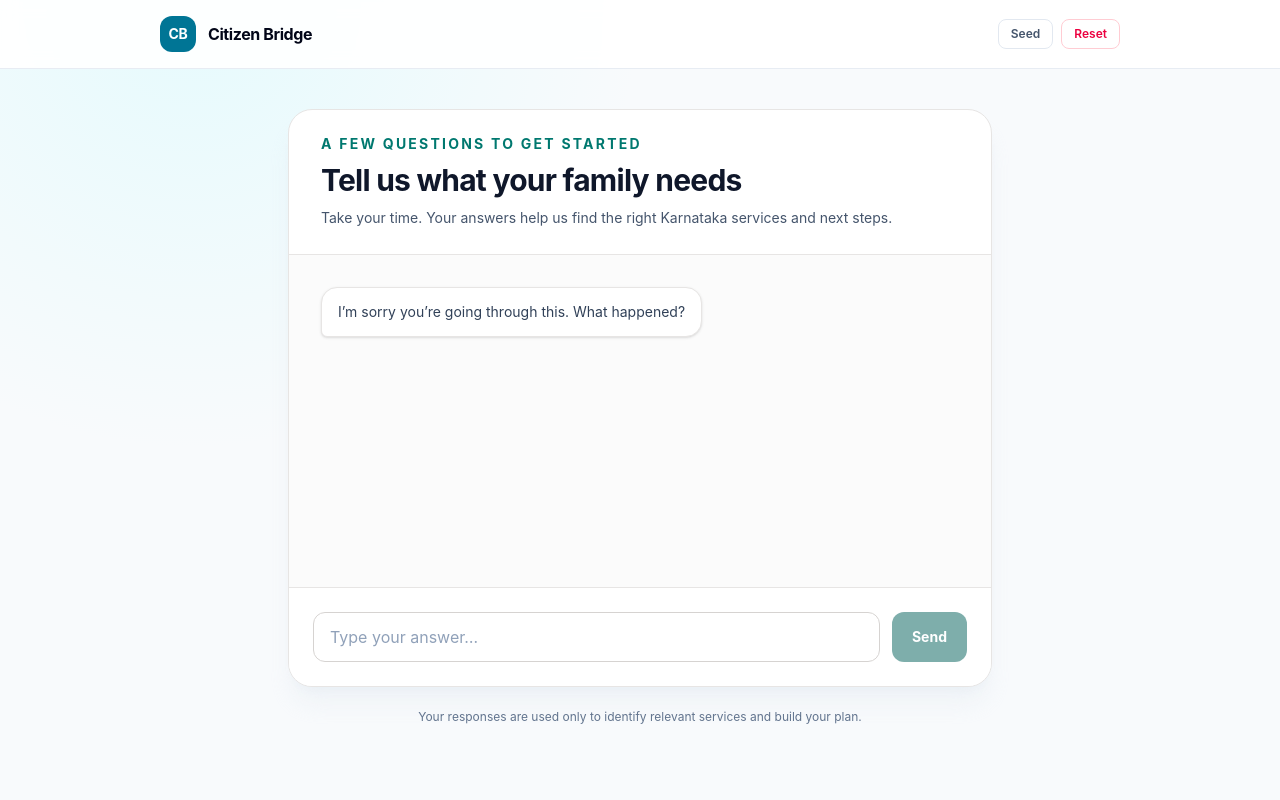
shows an inline error and preserves the answer when a message fails
expect the text "I’m sorry you’re going through this. What happened?" is shown: met, box [321,287,702,337]
Type "My father passed away" into the field named "Your message". click: (596, 637)
box: [313,612,880,662]
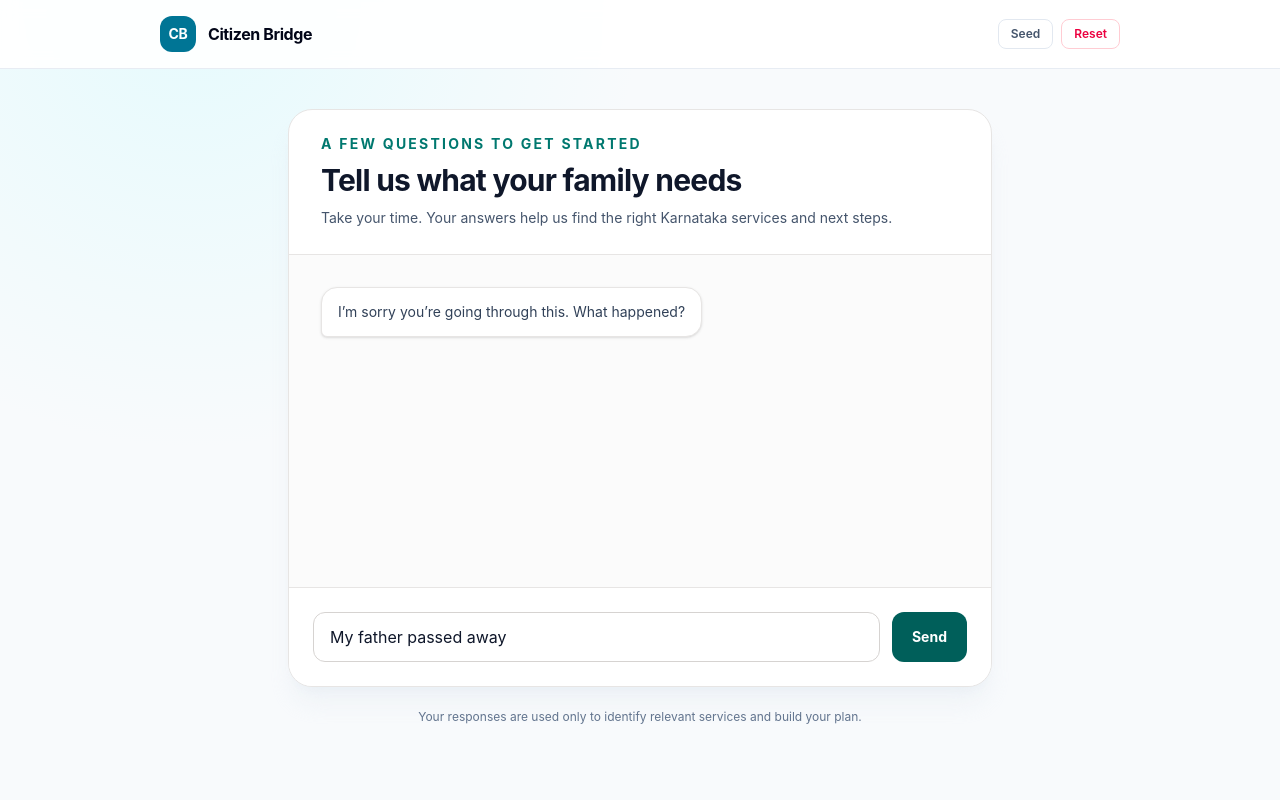
Click the button "Send". click: (929, 637)
box: [892,612,967,662]
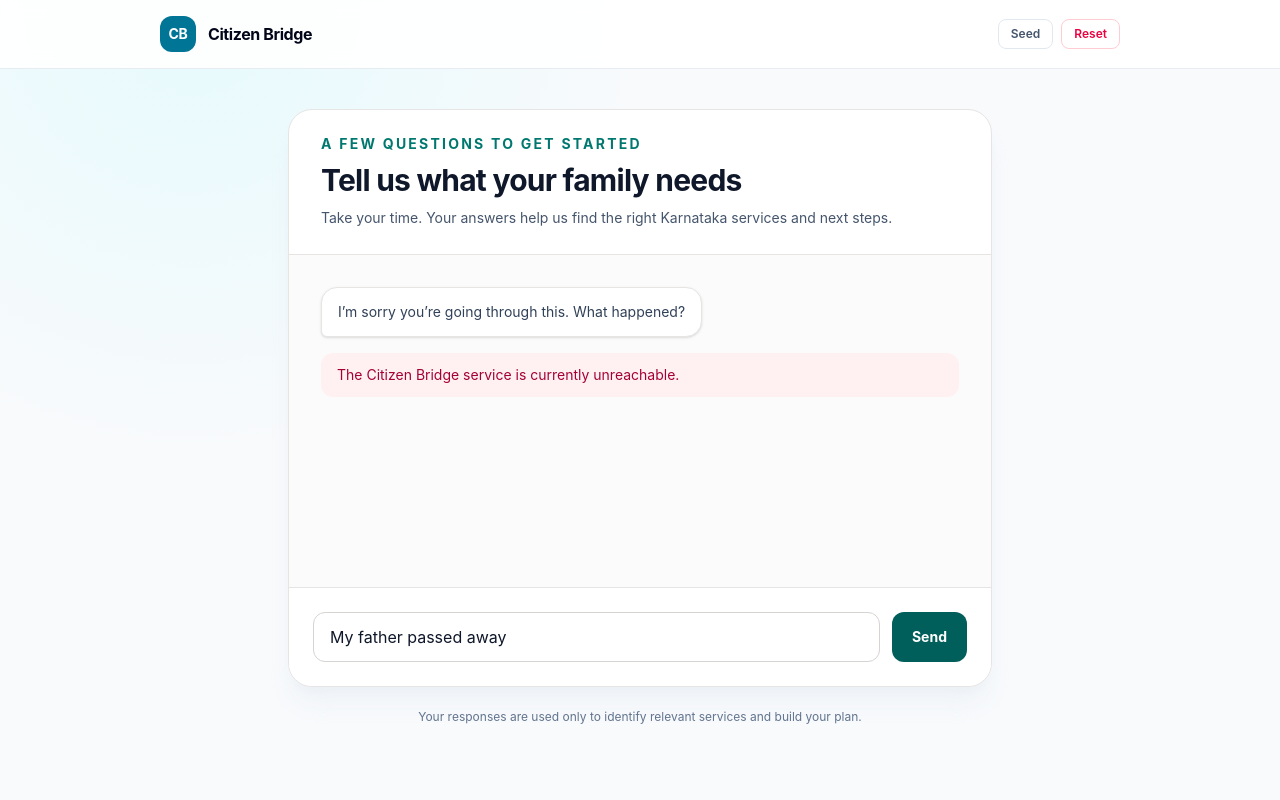
expect the message shows "currently unreachable": met, box [337,366,679,383]
